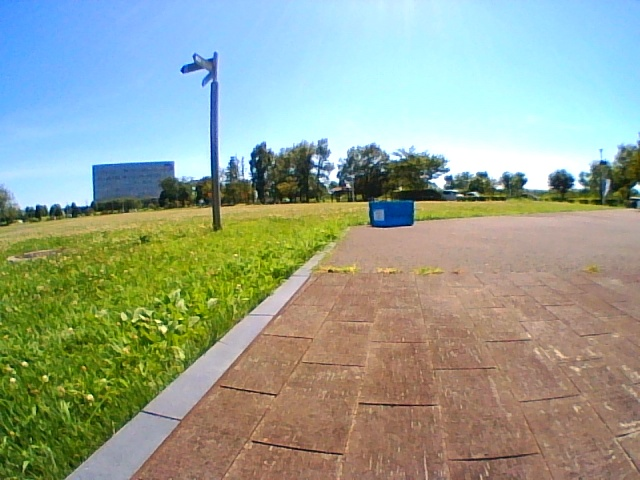blue_box: (370, 200, 414, 227)
tag: (372, 209, 385, 222)
